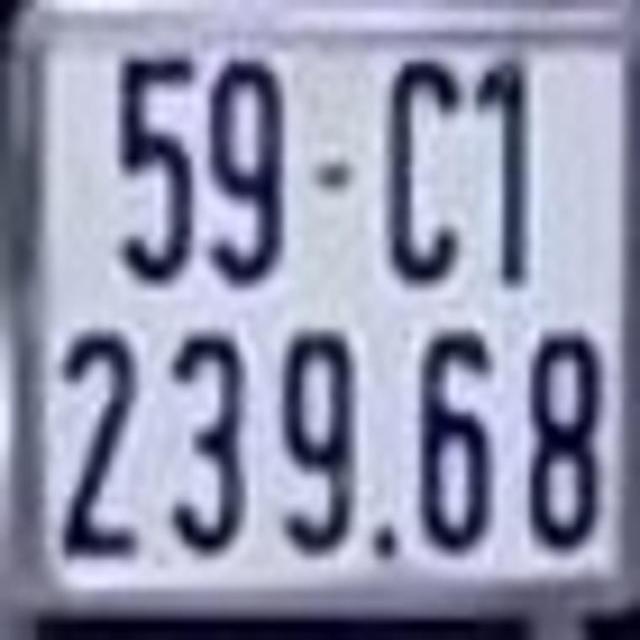1: (474, 59, 538, 287)
2: (60, 330, 140, 559)
3: (170, 330, 246, 554)
5: (115, 51, 197, 282)
6: (418, 327, 494, 553)
8: (528, 331, 600, 551)
9: (207, 55, 286, 287), (280, 327, 355, 555)
C: (383, 57, 463, 285)
